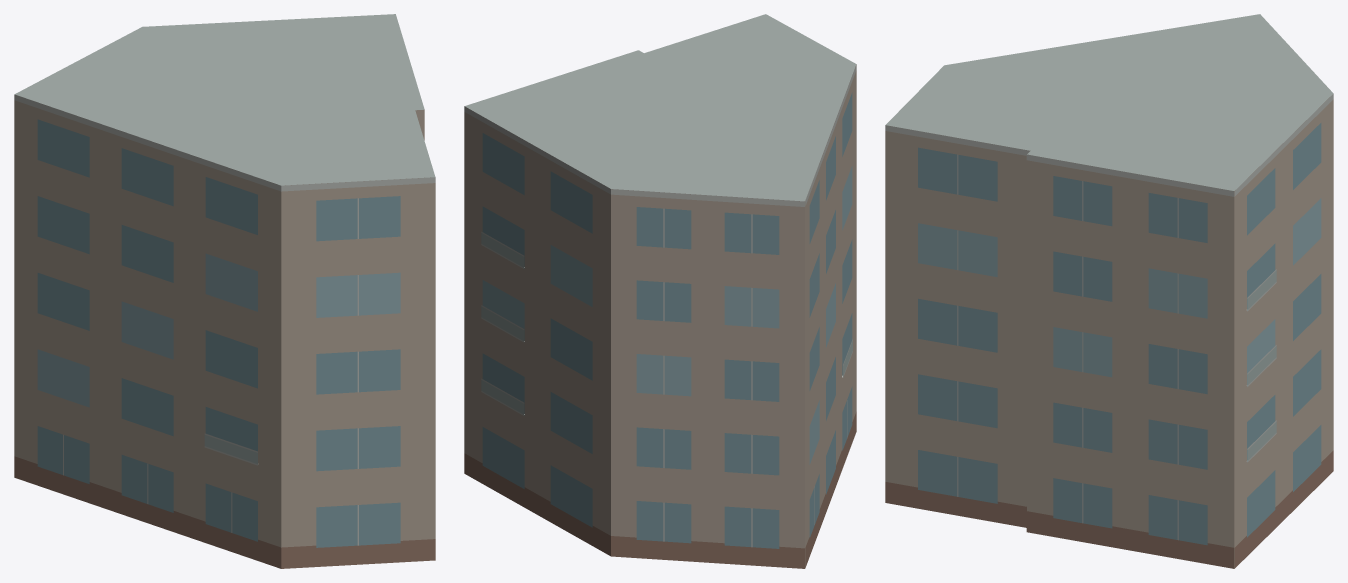
Rendered from survey-upis-32987526.glb.
3 views of the same model, side by side, from view 1: azimuth 30°, elevation 25°; view 2: azimuth 150°, elevation 25°; view 3: azimuth 270°, elevation 25° (orthographic). The views are drawn at different scales.
Visible parts, largest first — view 1: survey-upis-32987526.tmp; view 2: survey-upis-32987526.tmp; view 3: survey-upis-32987526.tmp.
Part boxes in pixels (x1,y1,x2,y2): survey-upis-32987526.tmp: (14,14,435,568); survey-upis-32987526.tmp: (464,14,856,568); survey-upis-32987526.tmp: (885,14,1333,568).
Size of the model in its own units: 16 by 15.9 by 17.11.
